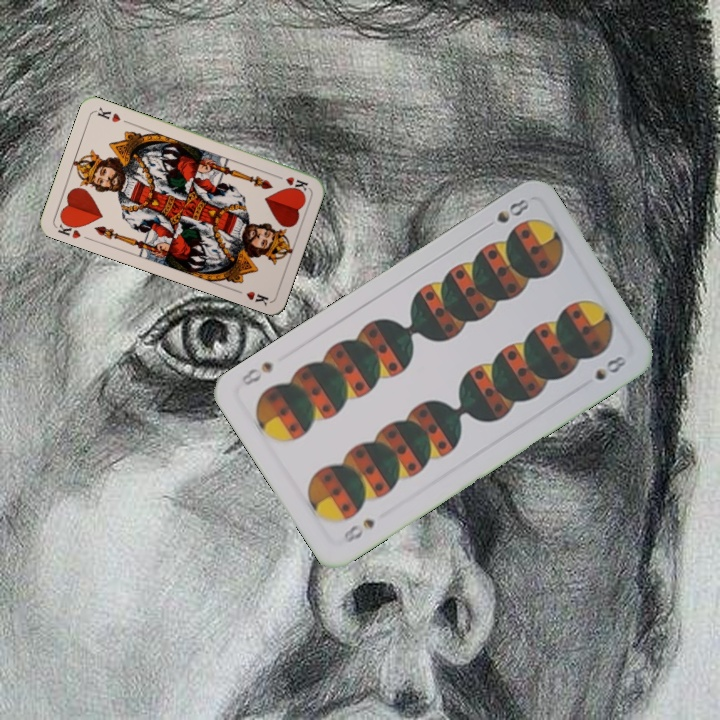HK: (271, 171, 311, 194), (54, 216, 83, 241)
S8: (478, 194, 532, 233), (339, 515, 378, 546)
